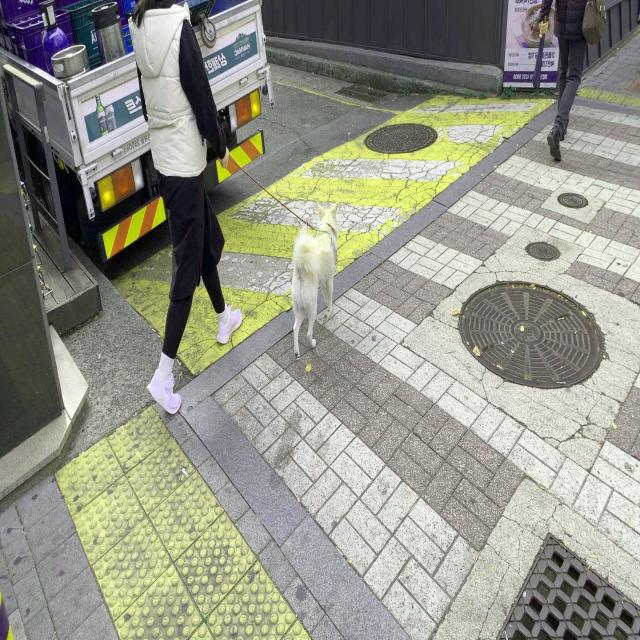Leashed_Dog: (182, 125, 338, 362)
